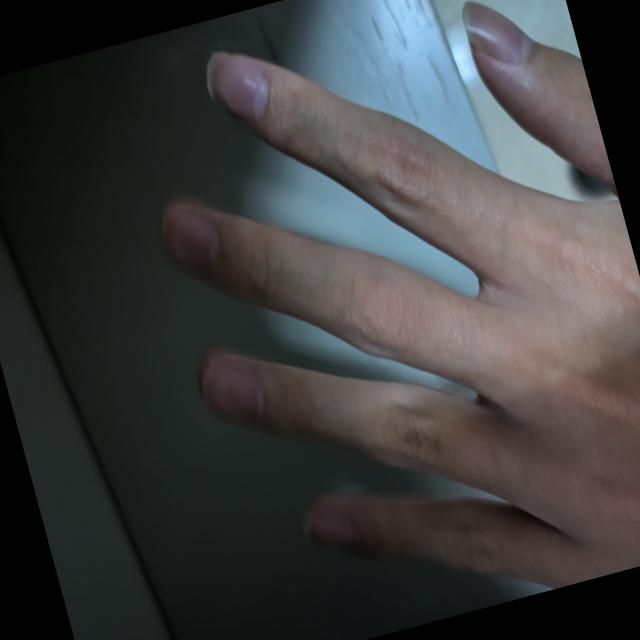Nail: (461, 1, 532, 63), (207, 50, 266, 120), (161, 208, 219, 273), (201, 363, 262, 423), (304, 513, 361, 547)
